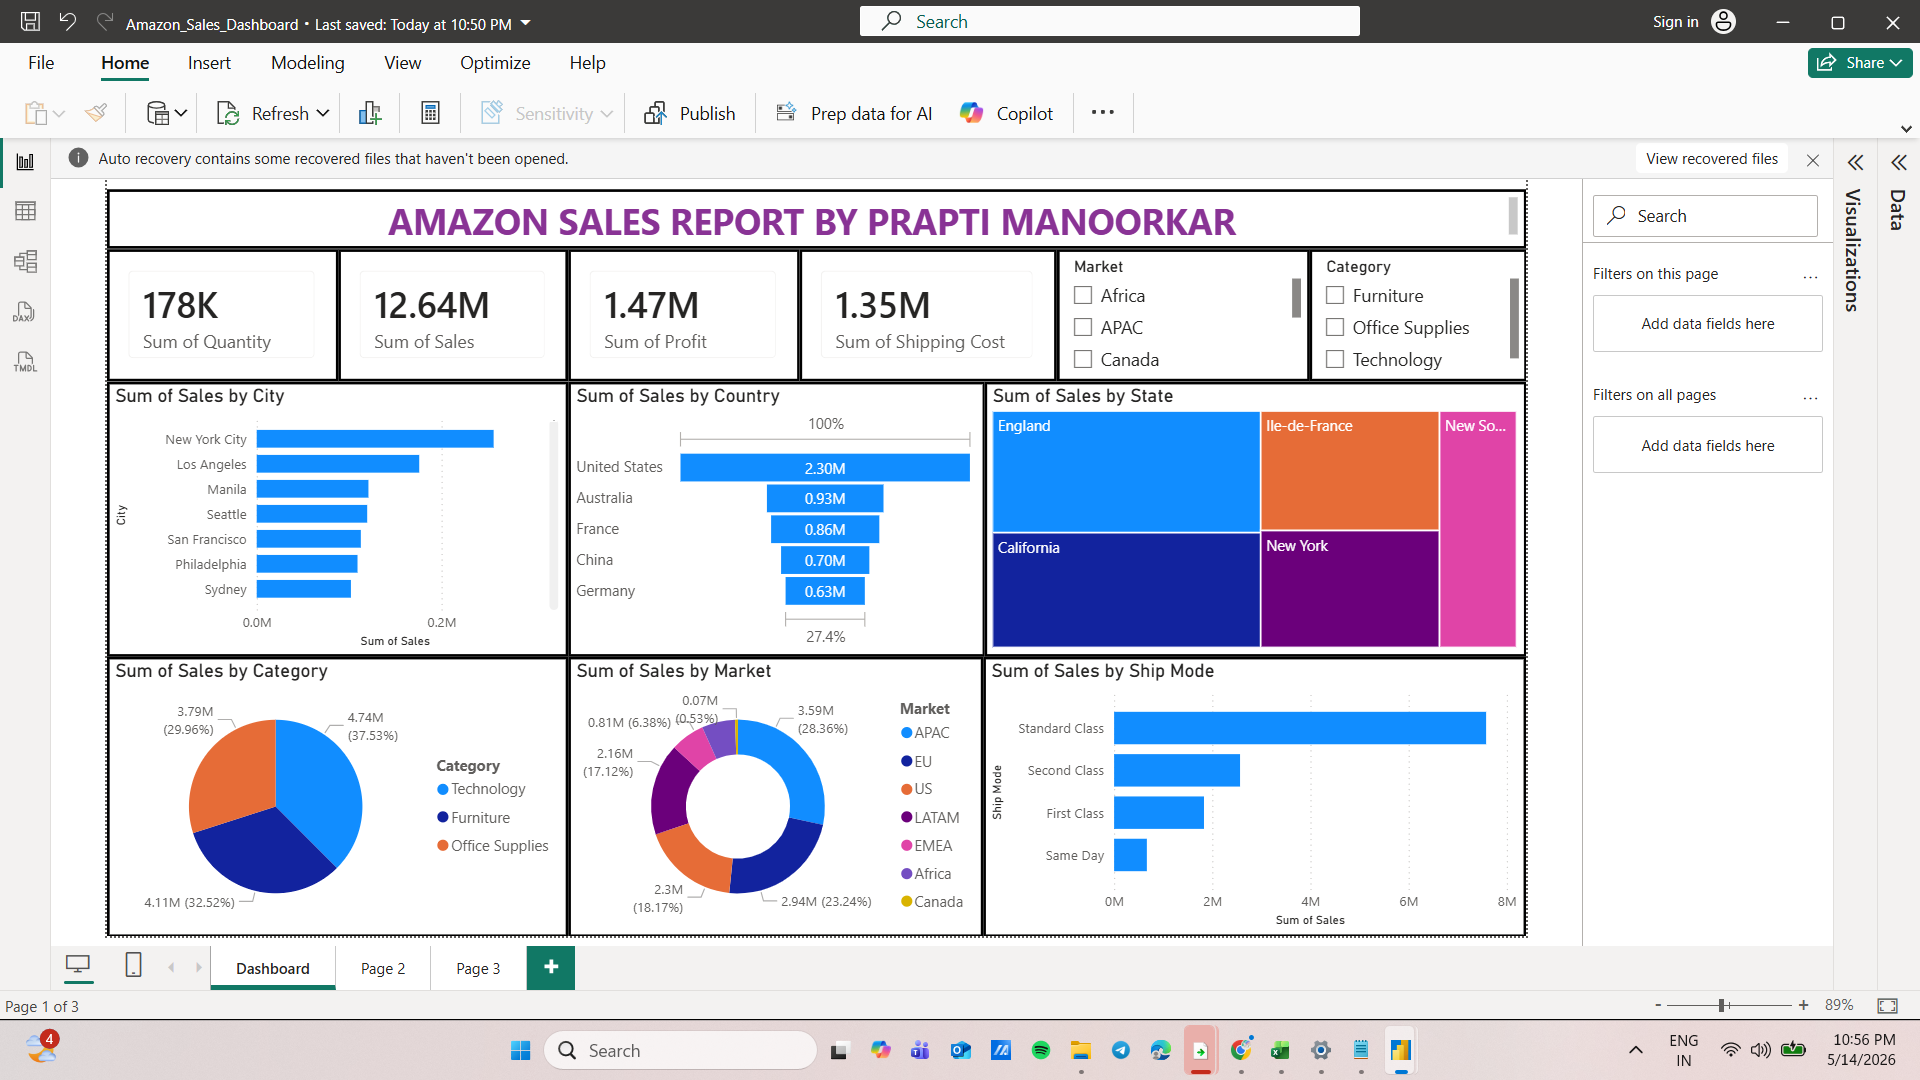

This screenshot's page, from the dashboard's own definition file:
{"tool":"powerbi","page":{"name":"Page 1","canvas":[1280,720],"ordinal":0},"visuals":[{"type":"pieChart","fields":{"Category":["Orders.Category"],"Y":["Sum(Orders.Sales)"]},"box":[0,467.9,415.8,252.5],"z":0},{"type":"donutChart","fields":{"Category":["Orders.Market"],"Y":["Sum(Orders.Sales)"]},"box":[415.8,467.9,374.6,252.5],"z":1000},{"type":"barChart","fields":{"Category":["Orders.Ship Mode"],"Y":["Sum(Orders.Sales)"]},"box":[790.4,467.9,489.9,252.5],"z":2000},{"type":"clusteredBarChart","fields":{"Category":["Orders.City"],"Y":["Sum(Orders.Sales)"]},"box":[0,219.6,415.8,248.4],"z":3000},{"type":"funnel","fields":{"Category":["Orders.Country"],"Y":["Sum(Orders.Sales)"]},"box":[415.8,219.6,376,248.4],"z":4000},{"type":"treemap","fields":{"Group":["Orders.State"],"Values":["Sum(Orders.Sales)"]},"box":[791.8,219.6,488.5,248.4],"z":5000},{"type":"slicer","fields":{"Values":["Orders.Category"]},"box":[1084.1,100.2,196.2,119.4],"z":6000},{"type":"slicer","fields":{"Values":["Orders.Market"]},"box":[856.3,100.2,227.8,119.4],"z":7000},{"type":"cardVisual","fields":{"Data":["Sum(Orders.Quantity)"]},"box":[0,100.2,208.6,119.4],"z":8000},{"type":"cardVisual","fields":{"Data":["Sum(Orders.Sales)"]},"box":[208.6,100.2,207.2,119.4],"z":9000},{"type":"cardVisual","fields":{"Data":["Sum(Orders.Profit)"]},"box":[415.8,100.2,208.6,119.4],"z":10000},{"type":"cardVisual","fields":{"Data":["Sum(Orders.Shipping Cost)"]},"box":[624.4,100.2,231.9,119.4],"z":11000},{"type":"textbox","box":[0,46.7,1280.3,53.5],"z":12000}]}

Visuals, with their boxes on the page's 1280x720 design canvas (x1, y1, x2, y2). These are canvas units, not pixel positions in the 1920x1080 screenshot, which may show the page scaled, cropped or inside an application window:
pieChart - Orders.Category x Sum(Orders.Sales): 0, 468, 416, 720
donutChart - Orders.Market x Sum(Orders.Sales): 416, 468, 790, 720
barChart - Orders.Ship Mode x Sum(Orders.Sales): 790, 468, 1280, 720
clusteredBarChart - Orders.City x Sum(Orders.Sales): 0, 220, 416, 468
funnel - Orders.Country x Sum(Orders.Sales): 416, 220, 792, 468
treemap - Orders.State x Sum(Orders.Sales): 792, 220, 1280, 468
slicer - Orders.Category: 1084, 100, 1280, 220
slicer - Orders.Market: 856, 100, 1084, 220
cardVisual - Sum(Orders.Quantity): 0, 100, 209, 220
cardVisual - Sum(Orders.Sales): 209, 100, 416, 220
cardVisual - Sum(Orders.Profit): 416, 100, 624, 220
cardVisual - Sum(Orders.Shipping Cost): 624, 100, 856, 220
textbox: 0, 47, 1280, 100
